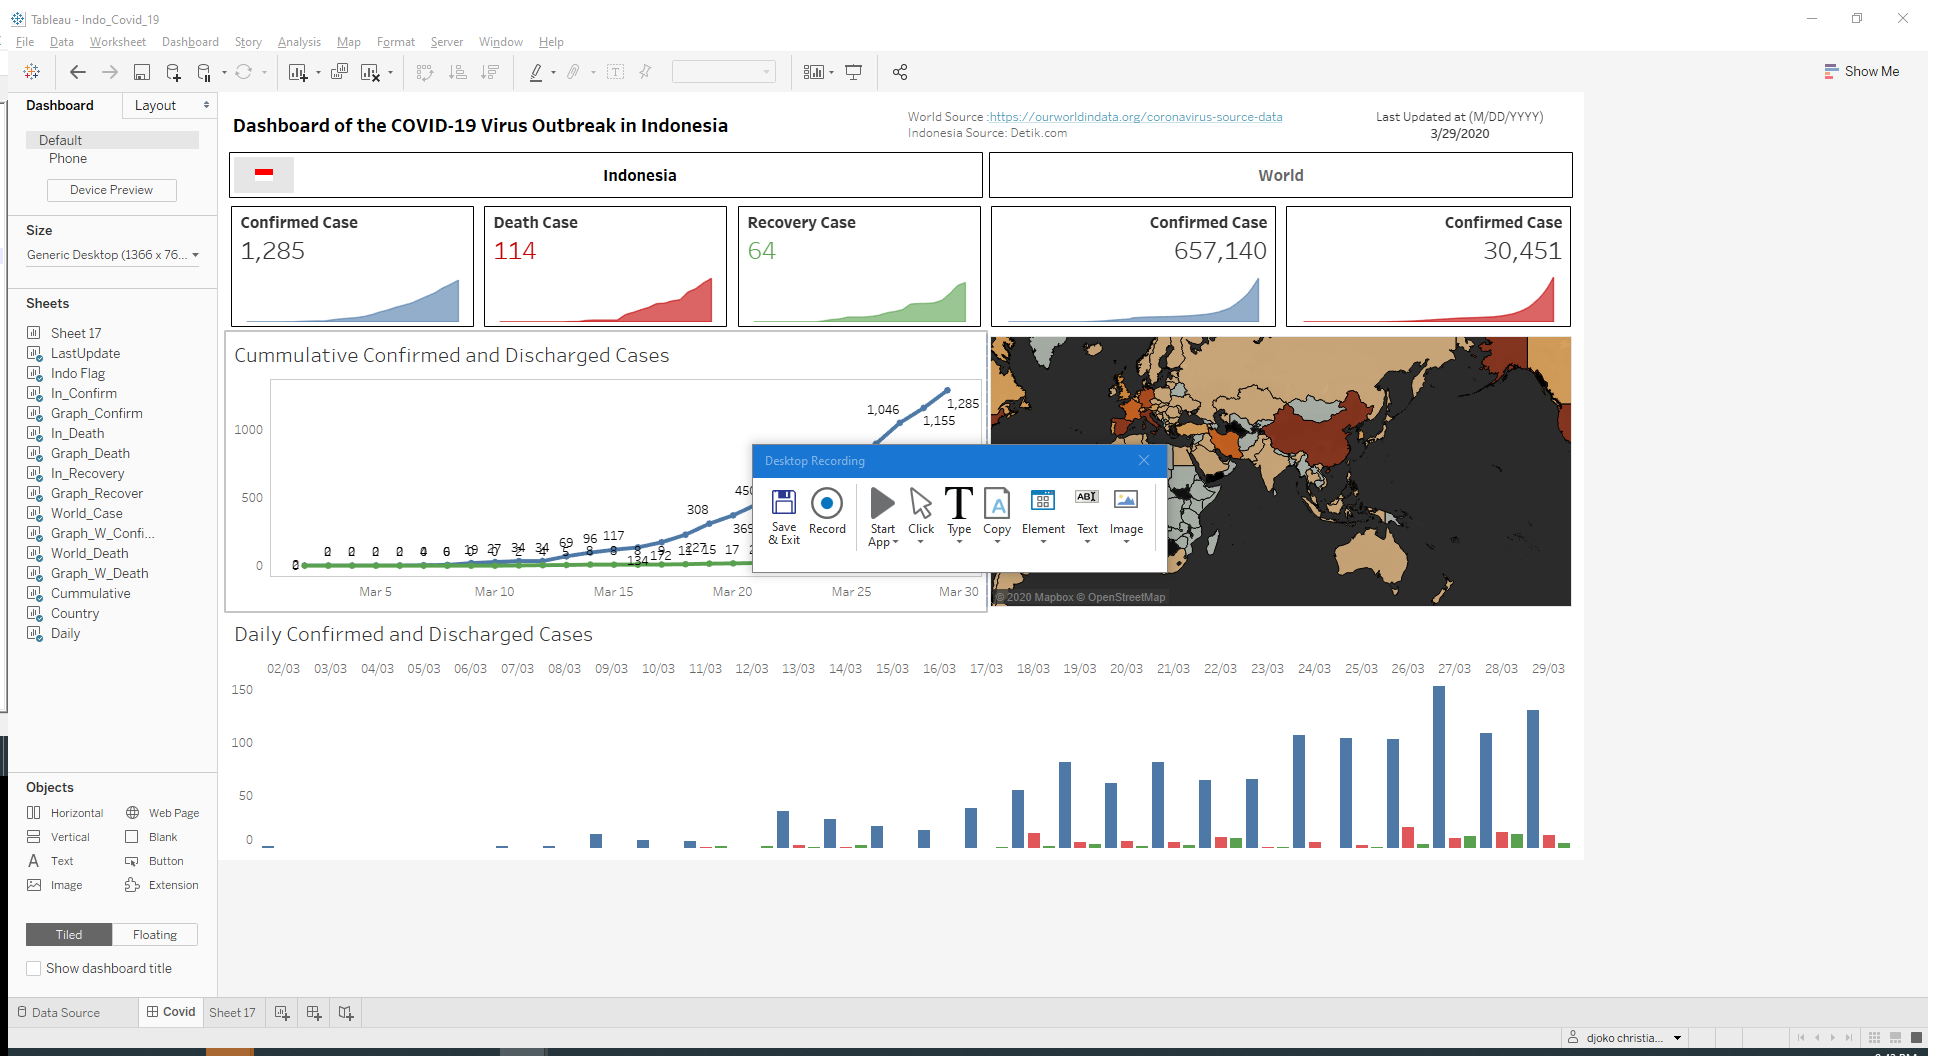

Layout of this report page (visuals, bound fields, positions):
{"tool":"tableau","page":{"name":"Covid","canvas":[1366,768],"ordinal":0},"visuals":[{"type":"text","box":[8,8,675,49]},{"type":"text","box":[683,8,443,49]},{"type":"worksheet","title":"LastUpdate","mark":"Automatic","box":[1126,8,232,49]},{"type":"text","box":[768,57,590,52]},{"type":"worksheet","title":"Indo Flag","mark":"Shape","cols":["total_cases"],"box":[12,61,68,44]},{"type":"text","box":[80,61,684,44]},{"type":"worksheet","title":"In_Confirm","mark":"Automatic","box":[14,115,241.3,67]},{"type":"worksheet","title":"In_Death","mark":"Automatic","box":[267.3,115,241.3,65]},{"type":"worksheet","title":"In_Recovery","mark":"Automatic","box":[520.7,115,241.3,69]},{"type":"worksheet","title":"World_Case","mark":"Automatic","box":[774,115,283,65]},{"type":"worksheet","title":"World_Death","mark":"Automatic","box":[1069,115,283,64]},{"type":"worksheet","title":"Graph_W_Death","mark":"Area","rows":["total_deaths"],"cols":["date"],"box":[1069,179,283,55]},{"type":"worksheet","title":"Graph_Death","mark":"Area","rows":["Death"],"cols":["Date"],"box":[267.3,180,241.3,54]},{"type":"worksheet","title":"Graph_W_Confirm","mark":"Area","rows":["total_cases"],"cols":["date"],"box":[774,180,283,54]},{"type":"worksheet","title":"Graph_Confirm","mark":"Area","rows":["Cases"],"cols":["Date"],"box":[14,182,241.3,52]},{"type":"worksheet","title":"Graph_Recover","mark":"Area","rows":["Recover"],"cols":["Date"],"box":[520.7,184,241.3,50]},{"type":"worksheet","title":"Cummulative","mark":"Automatic","rows":["Cases","Recover"],"cols":["Date"],"box":[8,240,760,279]},{"type":"worksheet","title":"Country","mark":"Automatic","box":[768,240,590,279]},{"type":"worksheet","title":"Daily","mark":"Bar","cols":["Date"],"box":[8,519,1350,241]}]}

Visuals, with their boxes on the page's 1366x768 design canvas (x1, y1, x2, y2). These are canvas units, not pixel positions in the 1936x1056 screenshot, which may show the page scaled, cropped or inside an application window:
text: x1=8, y1=8, x2=683, y2=57
text: x1=683, y1=8, x2=1126, y2=57
"LastUpdate" worksheet: x1=1126, y1=8, x2=1358, y2=57
text: x1=768, y1=57, x2=1358, y2=109
"Indo Flag" worksheet (Shape marks): x1=12, y1=61, x2=80, y2=105
text: x1=80, y1=61, x2=764, y2=105
"In_Confirm" worksheet: x1=14, y1=115, x2=255, y2=182
"In_Death" worksheet: x1=267, y1=115, x2=509, y2=180
"In_Recovery" worksheet: x1=521, y1=115, x2=762, y2=184
"World_Case" worksheet: x1=774, y1=115, x2=1057, y2=180
"World_Death" worksheet: x1=1069, y1=115, x2=1352, y2=179
"Graph_W_Death" worksheet (Area marks): x1=1069, y1=179, x2=1352, y2=234
"Graph_Death" worksheet (Area marks): x1=267, y1=180, x2=509, y2=234
"Graph_W_Confirm" worksheet (Area marks): x1=774, y1=180, x2=1057, y2=234
"Graph_Confirm" worksheet (Area marks): x1=14, y1=182, x2=255, y2=234
"Graph_Recover" worksheet (Area marks): x1=521, y1=184, x2=762, y2=234
"Cummulative" worksheet: x1=8, y1=240, x2=768, y2=519
"Country" worksheet: x1=768, y1=240, x2=1358, y2=519
"Daily" worksheet (Bar marks): x1=8, y1=519, x2=1358, y2=760
